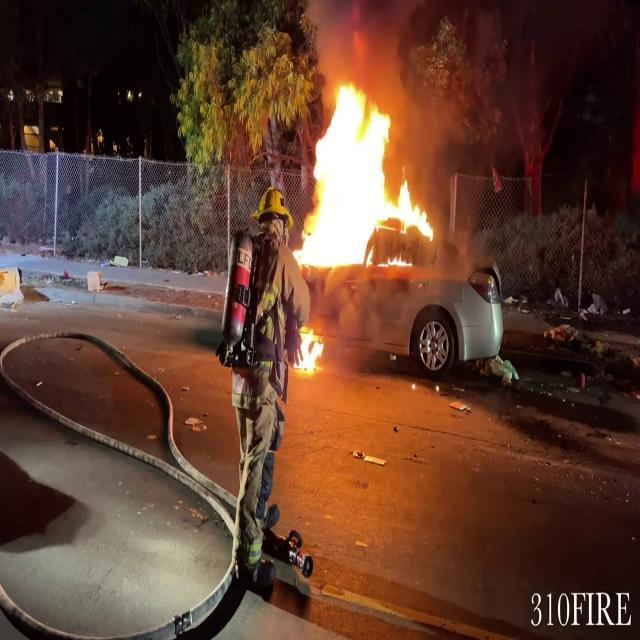Fire: (294, 70, 441, 272), (294, 318, 328, 378)
